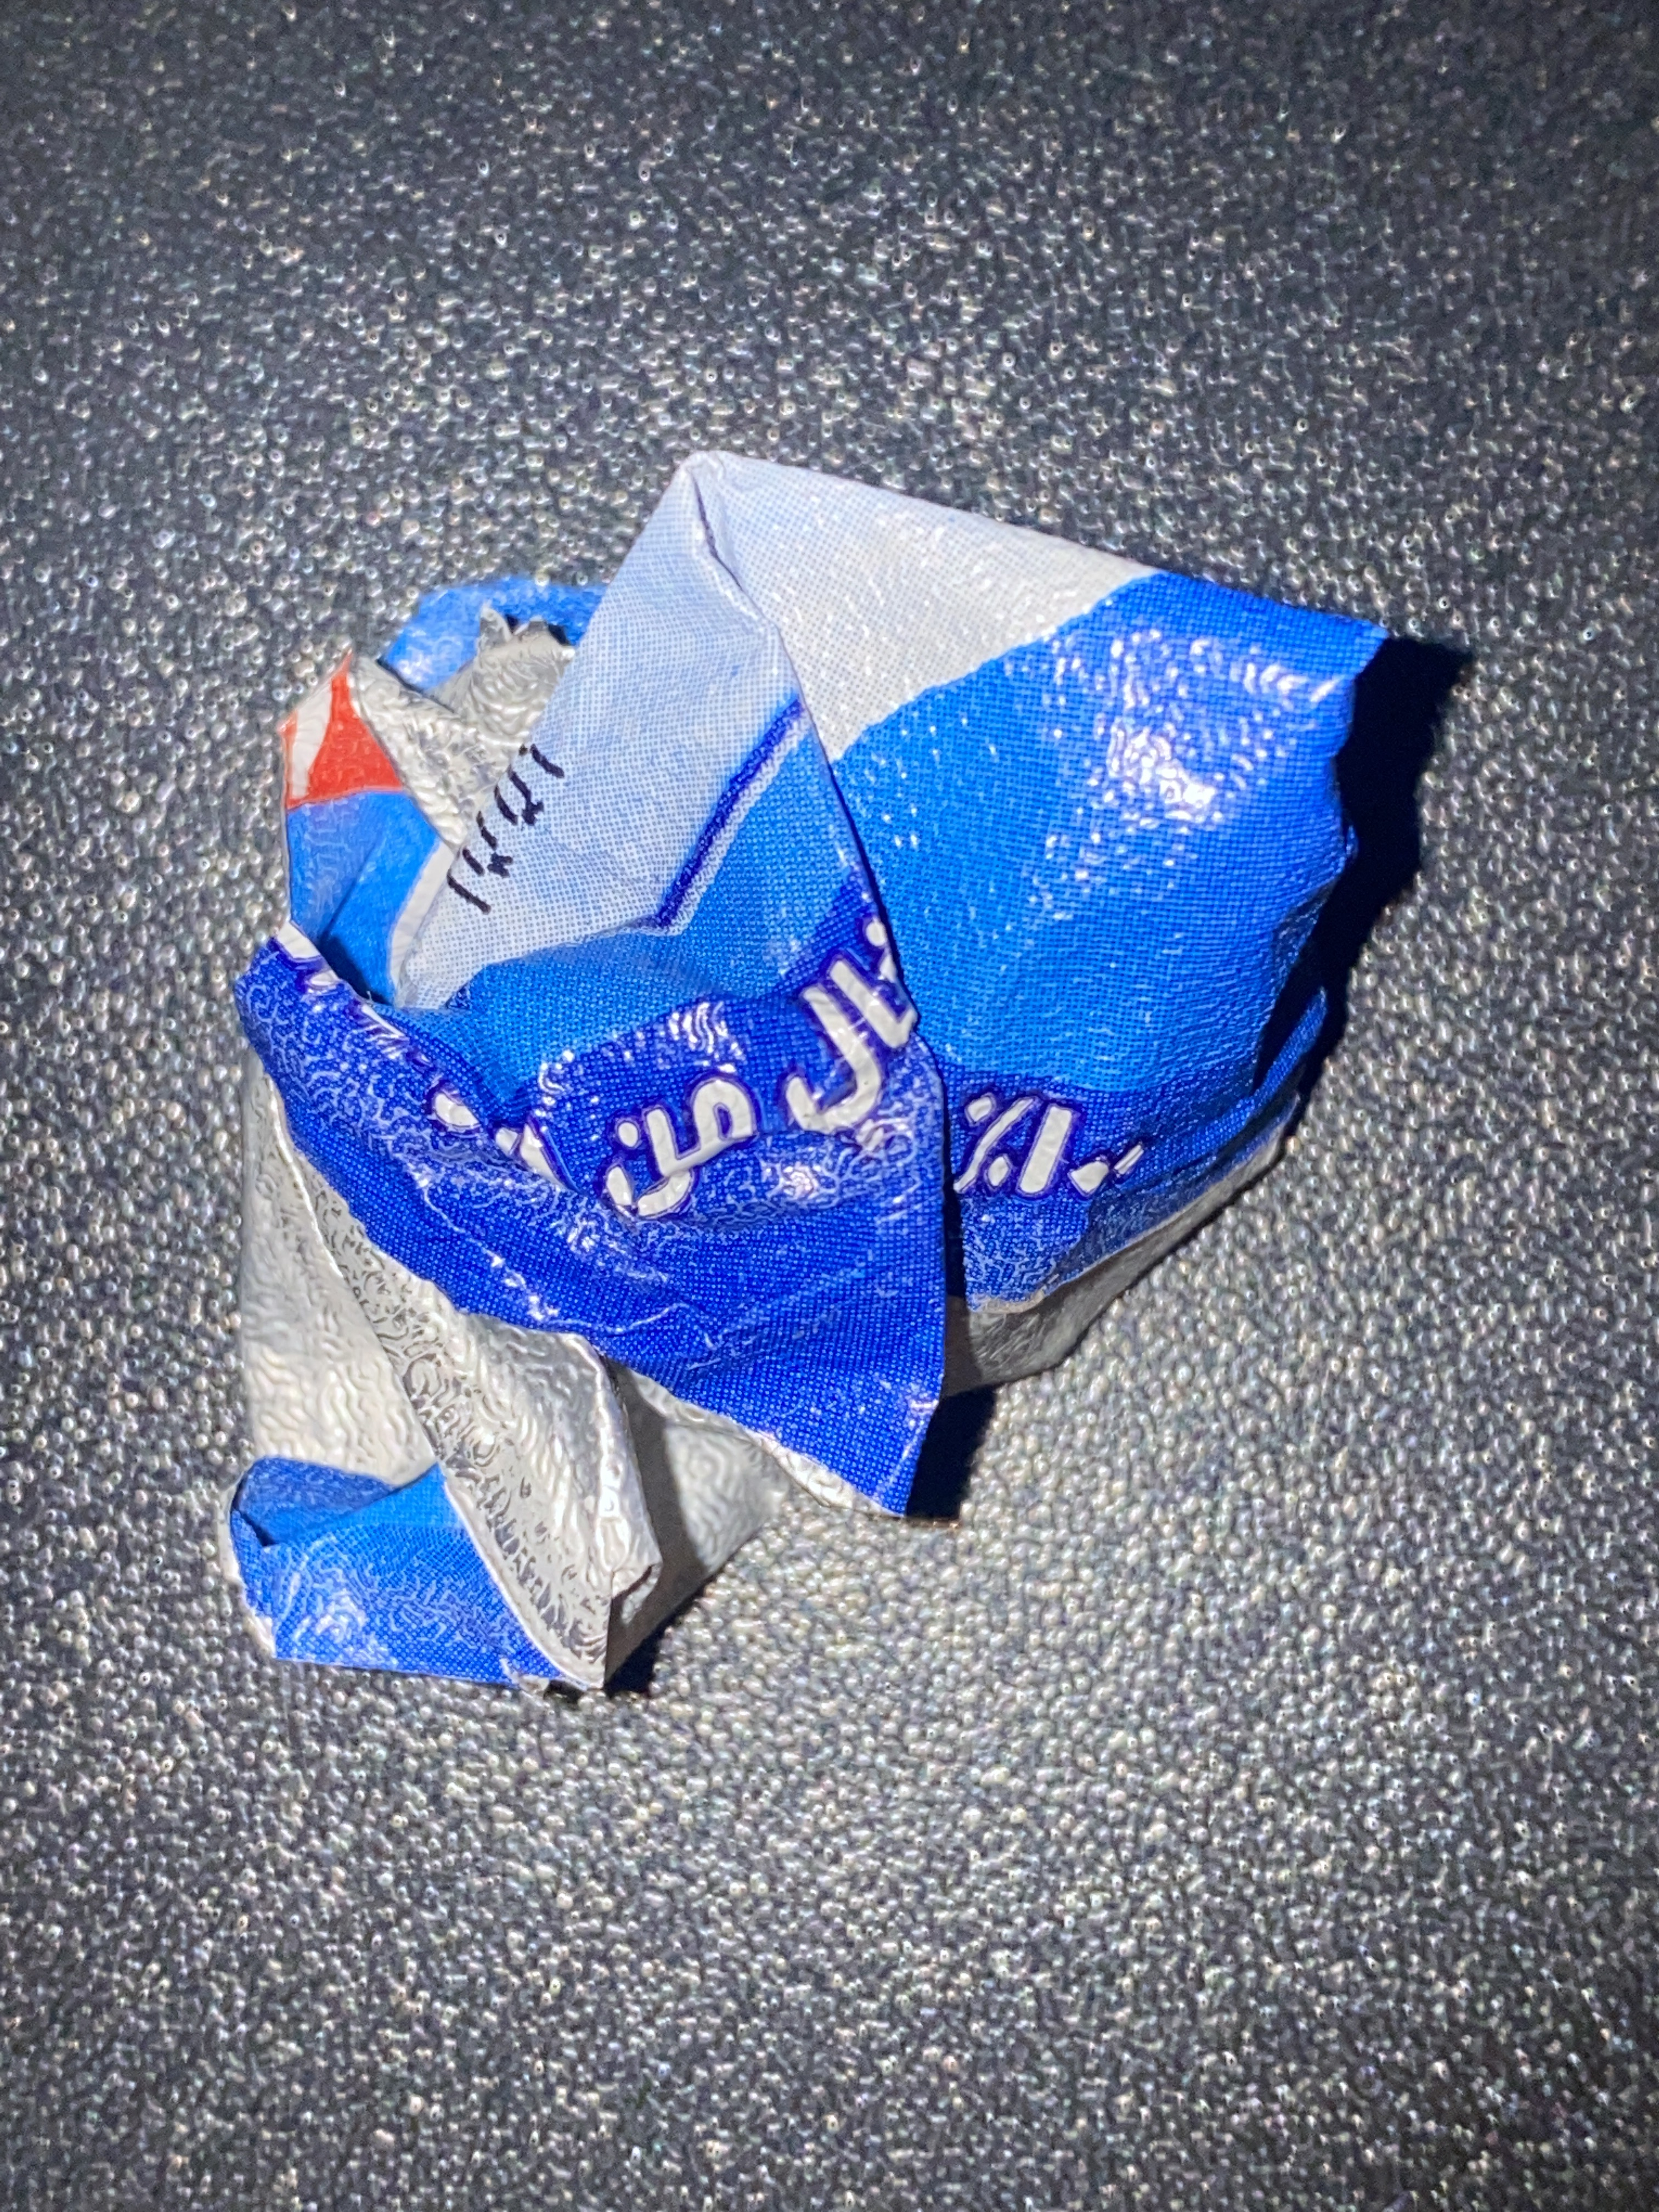metal: (162, 415, 1450, 1797)
